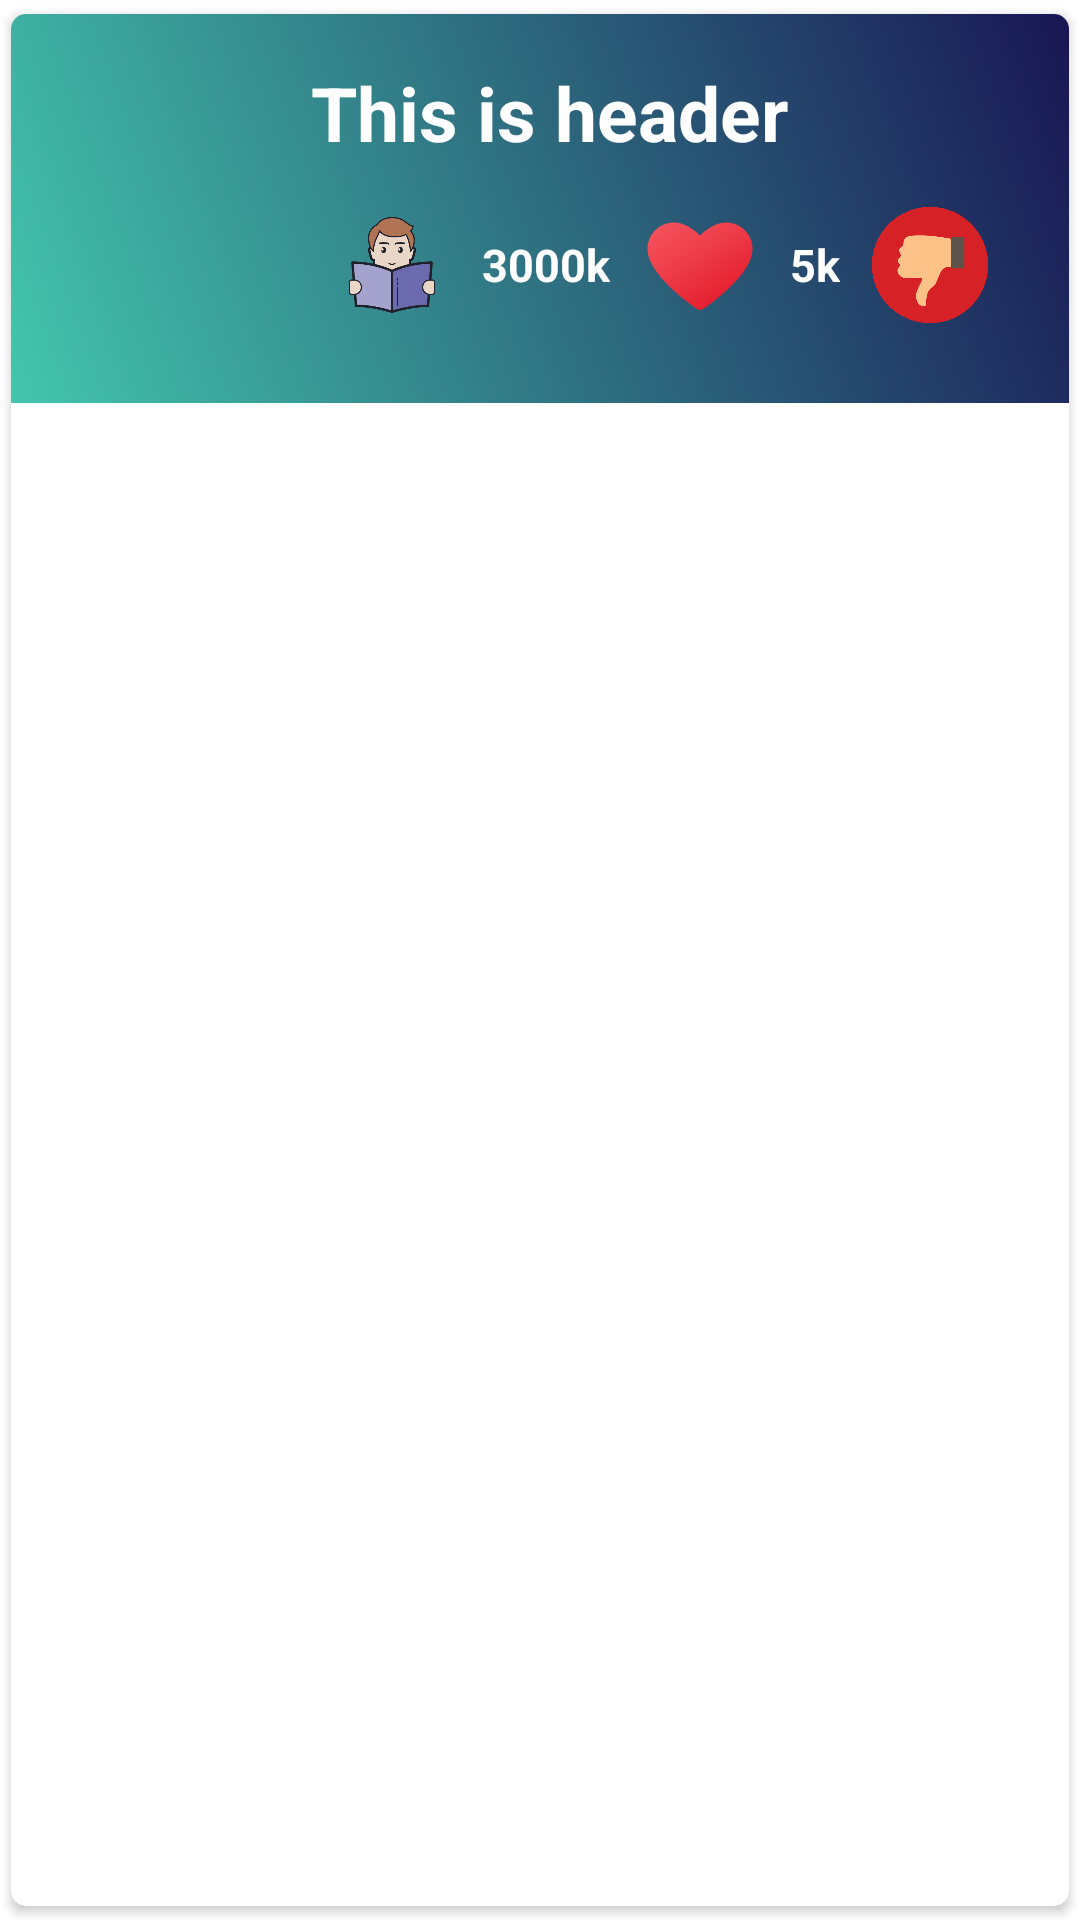

Where to tap for icons on this 1080 × 1920 app screen, as (x,y):
dislike: (930,265)
like: (700,266)
readbook: (392,265)
